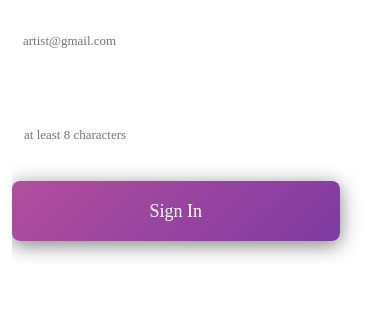
Scenario: Form › should display an error message when email address is in an invalid format
The image size is (371, 320).
Type "invalidemail" into the field with test id "emailInput".
click(176, 41); type("invalidemail")  # box [12, 16, 340, 66]
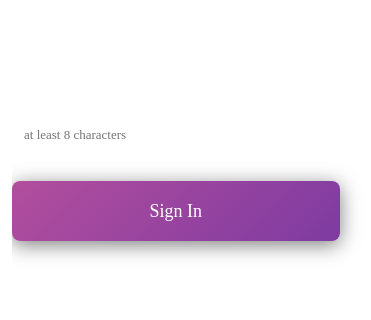
Click the element with test id "SignInButton".
click(176, 211)  # box [12, 181, 340, 241]
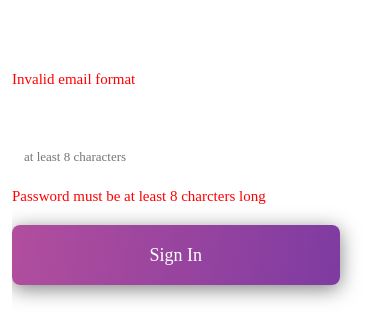
Now the text "Invalid email format" is shown, box [12, 71, 135, 87]
